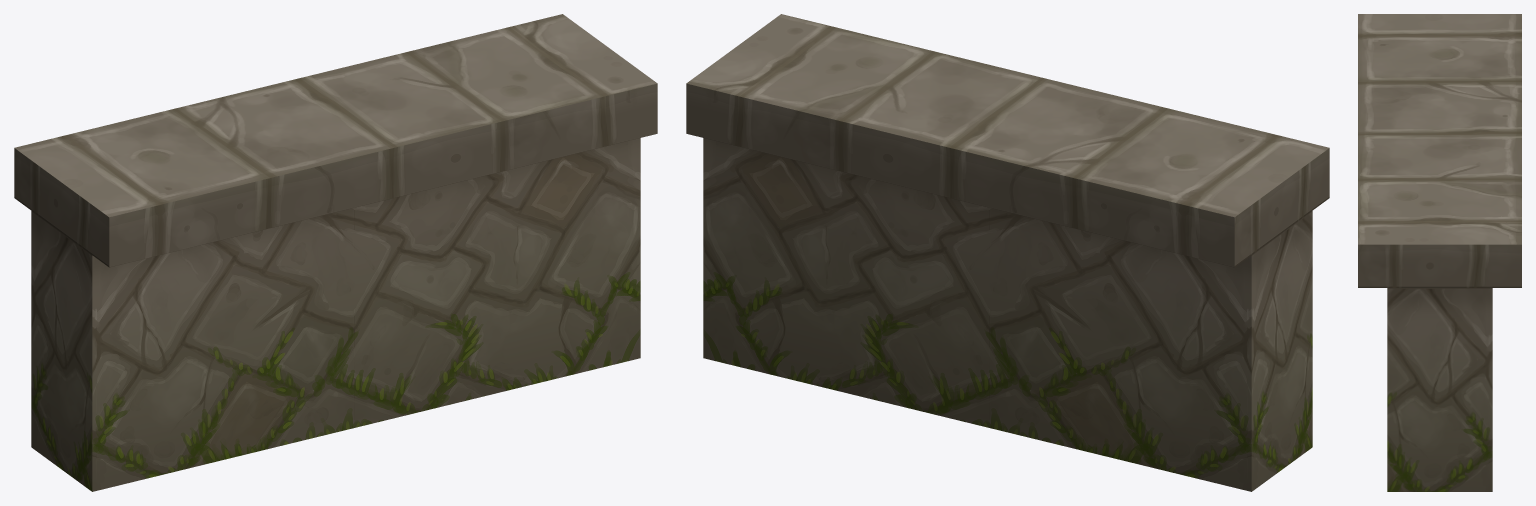
Rendered from Stone_fence.FBX.
3 renders of one model, left to right at view 1: azimuth 30°, elevation 25°; view 2: azimuth 150°, elevation 25°; view 3: azimuth 270°, elevation 25°, orthographic. The views are drawn at different scales.
Visible parts, largest first — view 1: Stone_fence; view 2: Stone_fence; view 3: Stone_fence.
Boxes of the visible parts, x1,y1,x2,y2 form: Stone_fence: [14, 14, 657, 491]; Stone_fence: [686, 14, 1329, 491]; Stone_fence: [1358, 14, 1521, 491].
Bounding box in the file's own units: 4 × 2 × 1.2.
